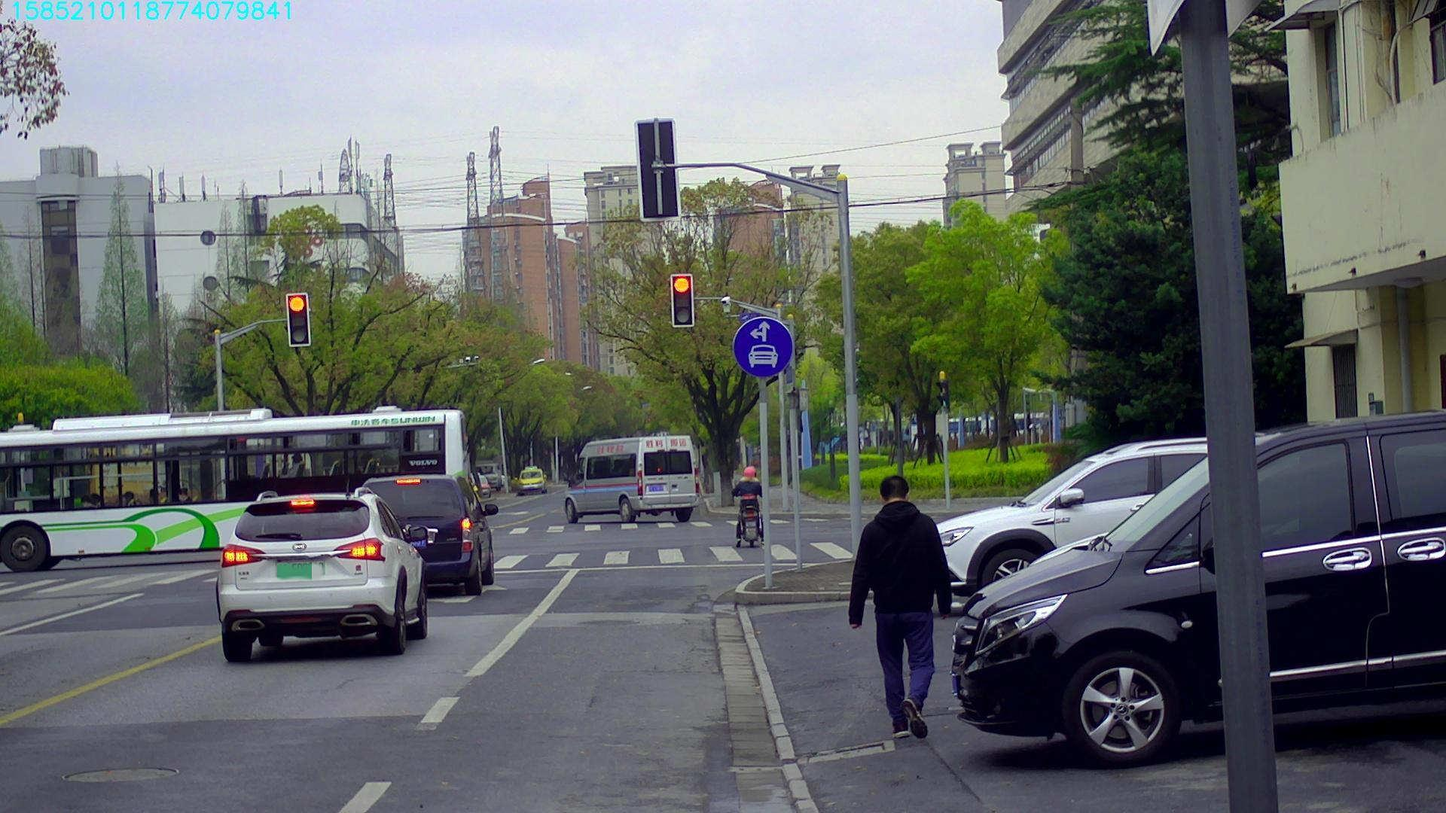red: (287, 294, 308, 345), (672, 274, 692, 326)
